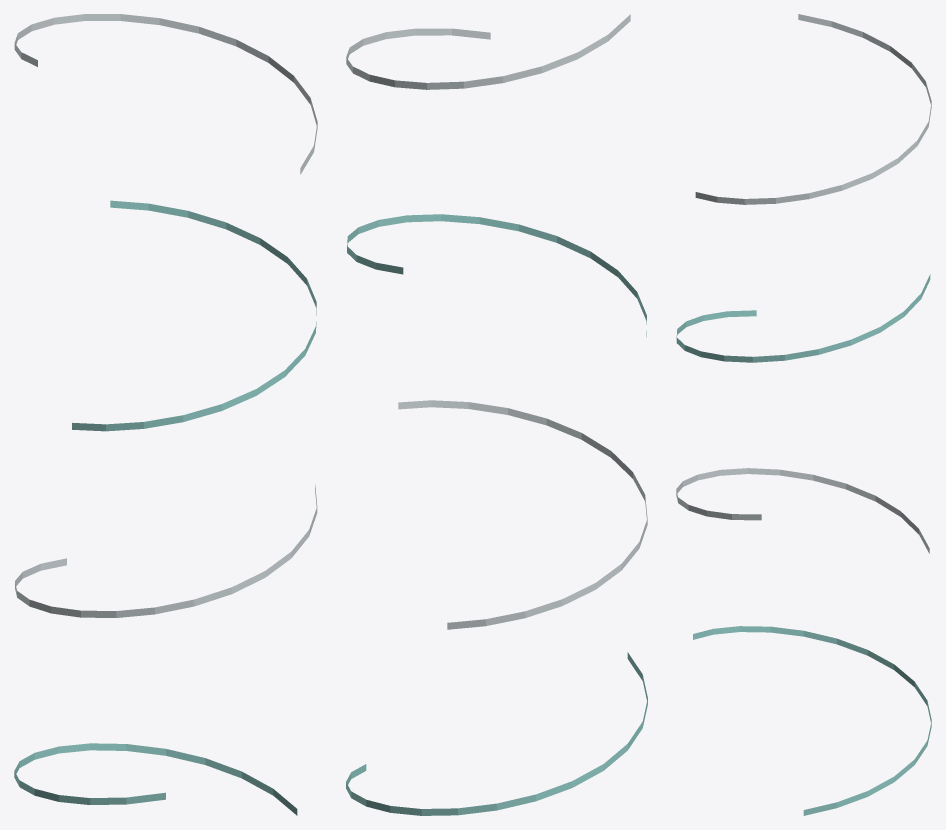
Rendered from RisingAirRibbons.glb.
3 views of the same model, side by side, from view 1: azimuth 30°, elevation 25°; view 2: azimuth 150°, elevation 25°; view 3: azimuth 270°, elevation 25° (orthographic). The views are drawn at different scales.
Visible parts, largest first — view 1: RisingAirRibbons; view 2: RisingAirRibbons; view 3: RisingAirRibbons.
Boxes of the visible parts, box(x1,y1,x2,y2) form: RisingAirRibbons: box(14, 14, 317, 815); RisingAirRibbons: box(346, 14, 647, 815); RisingAirRibbons: box(676, 14, 931, 815).
Size of the model in its own units: 1.76 by 5.26 by 1.76.
